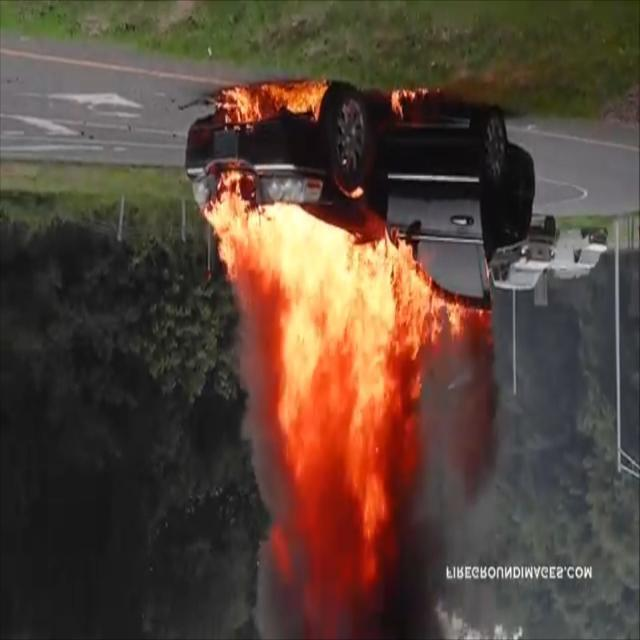fire: (198, 172, 498, 628), (215, 76, 430, 144)
